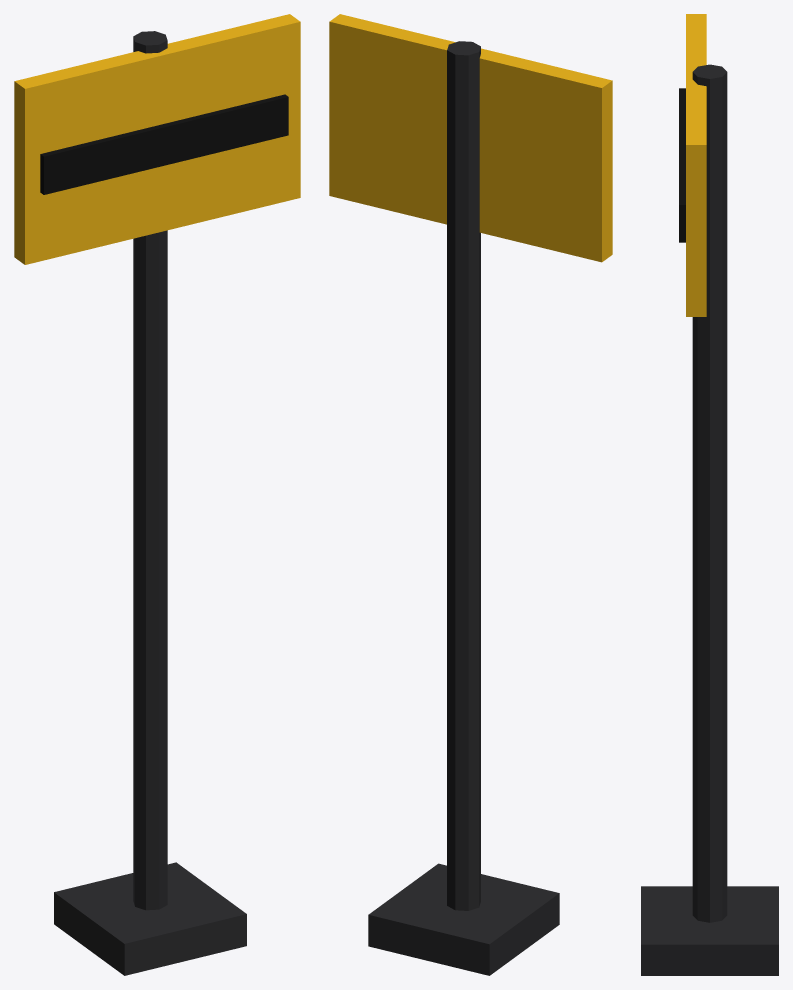
File: taxi_sign.glb
3 views of the same model, side by side, from view 1: azimuth 30°, elevation 25°; view 2: azimuth 150°, elevation 25°; view 3: azimuth 270°, elevation 25° (orthographic). The views are drawn at different scales.
Parts seen in each view (by area): view 1: taxi_sign; view 2: taxi_sign; view 3: taxi_sign.
Part boxes in pixels (left/top/right/bottom): taxi_sign: left=14, top=14, right=300, bottom=975; taxi_sign: left=329, top=14, right=612, bottom=975; taxi_sign: left=641, top=14, right=778, bottom=975.
Bounding box in the file's own units: 0.9 × 2.8 × 0.4.
